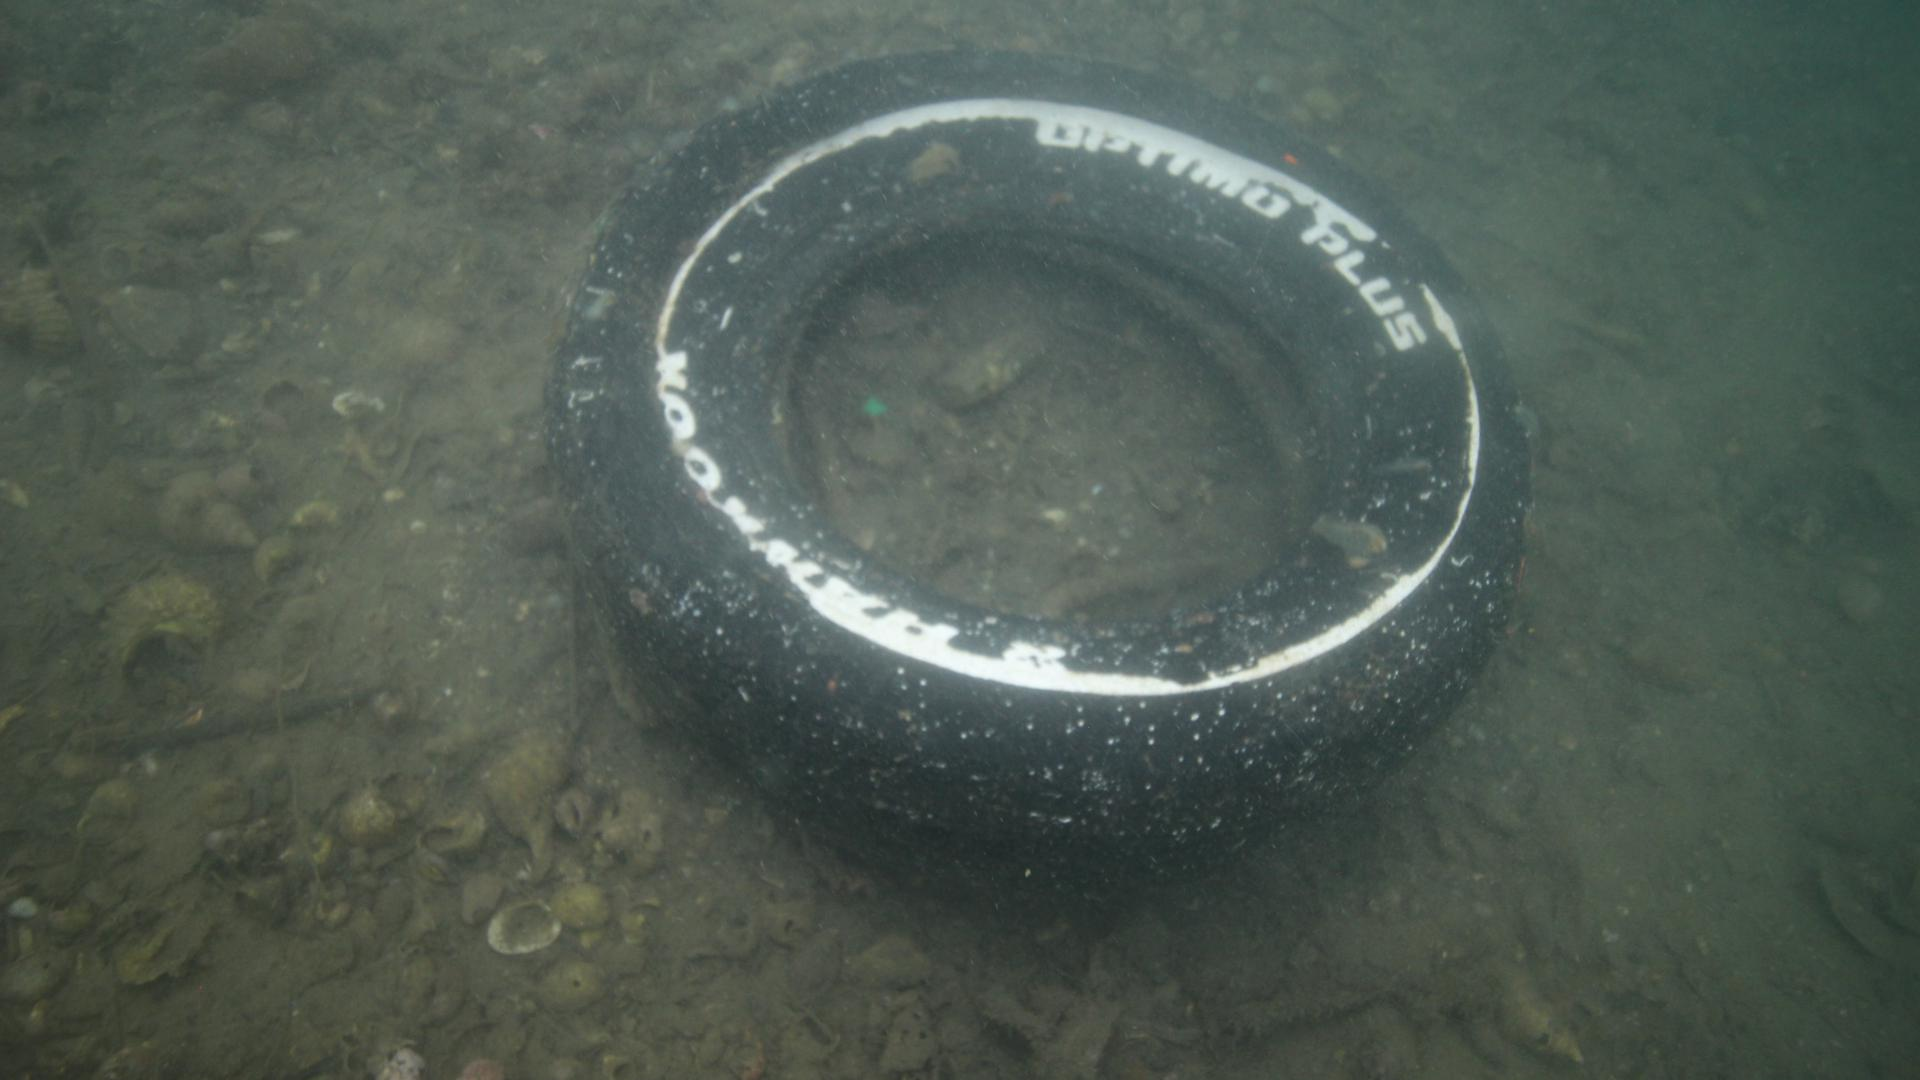tire: (541, 47, 1528, 920)
